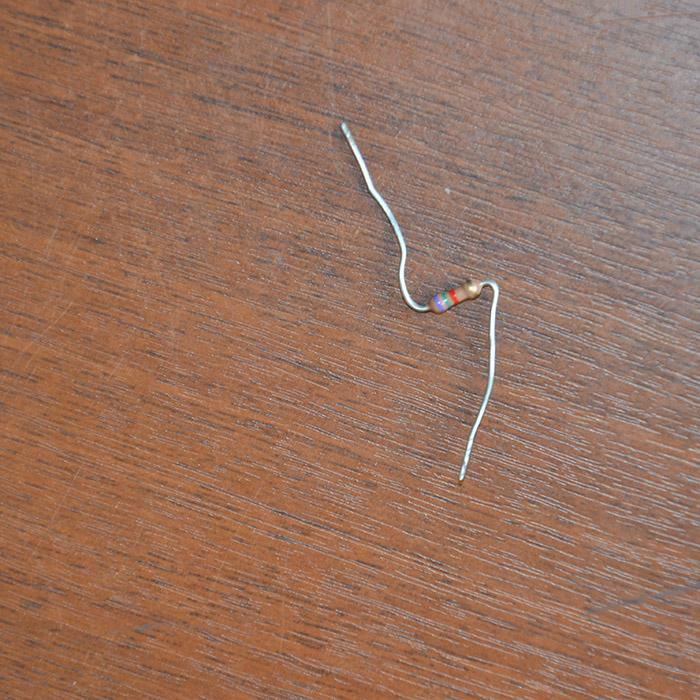resistor: (429, 277, 482, 313)
